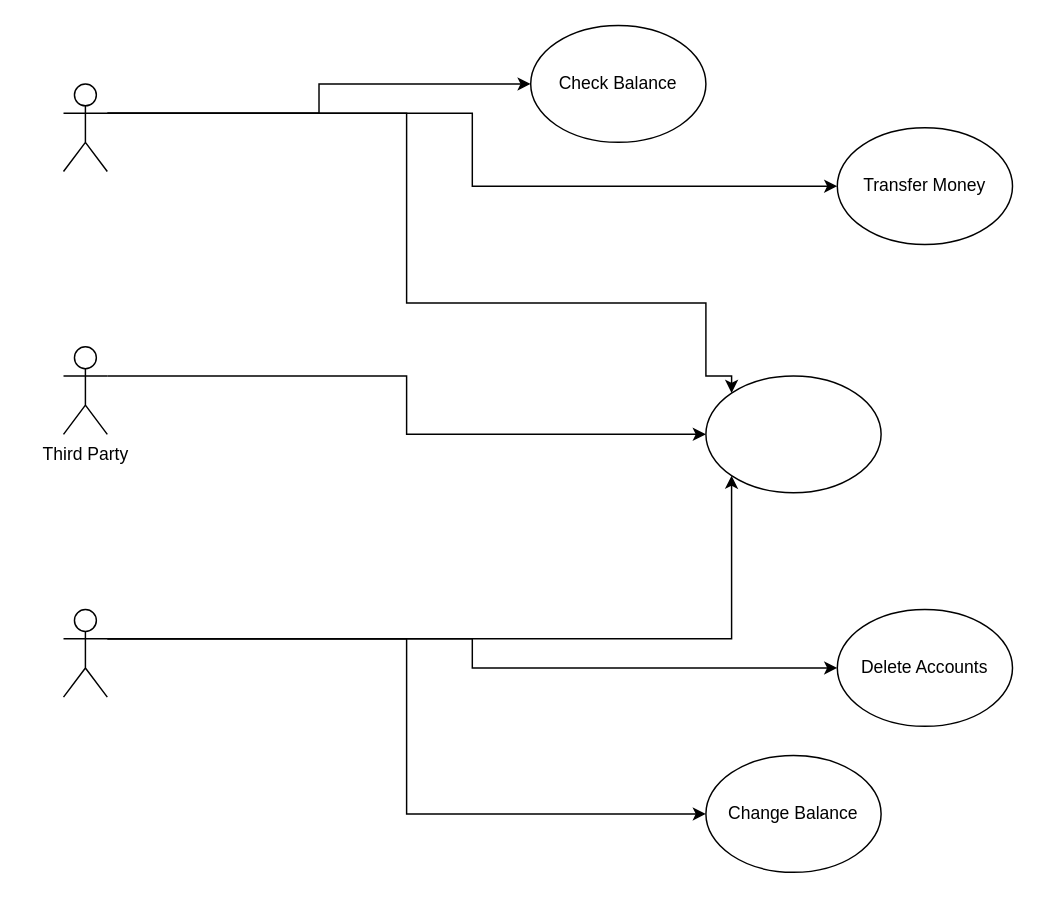
This 1038x898 diagram has some shape labels left out. Each missing label, with the centre of its shape:
"Account Holder" goes at pixel 84 127.
"Admin" goes at pixel 84 652.
"Create Accounts" goes at pixel 792 433.
